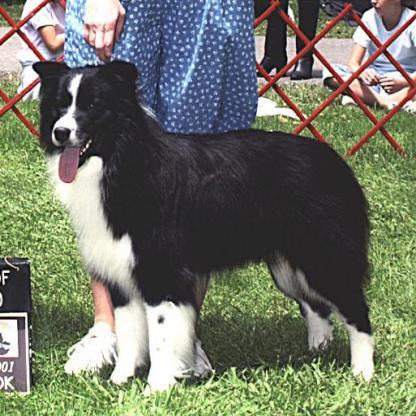Border_collie: (29, 54, 374, 397)
